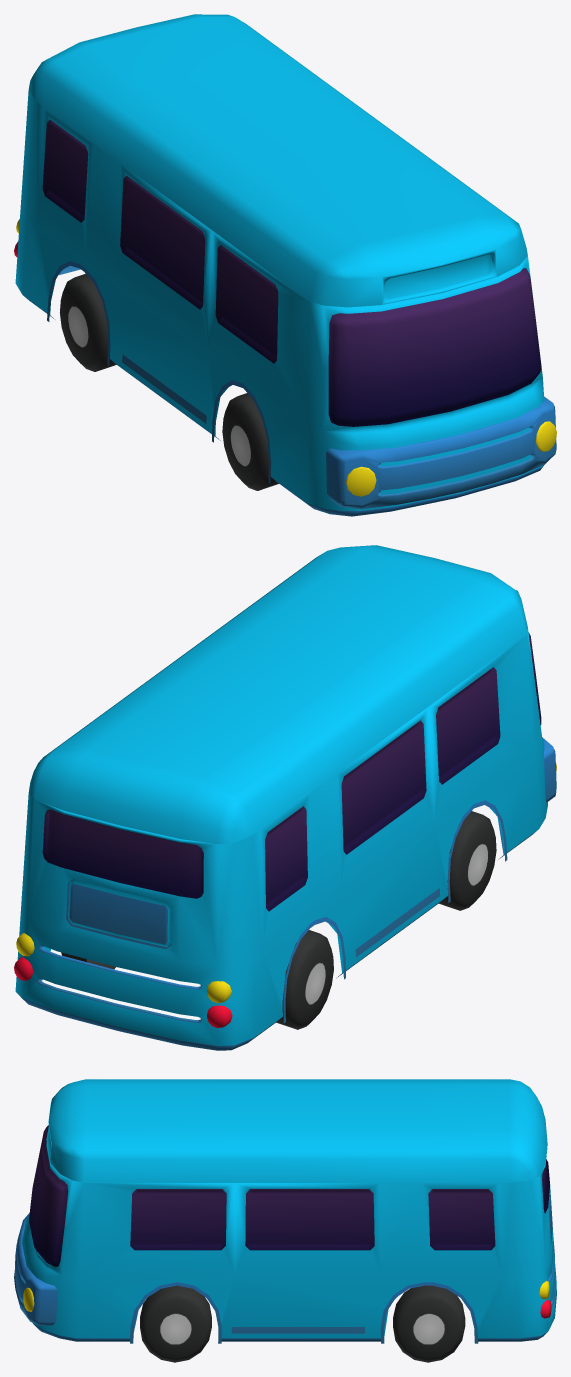
File: SixSeater.fbx
3 renders of one model, top to bottom at view 1: azimuth 30°, elevation 25°; view 2: azimuth 150°, elevation 25°; view 3: azimuth 270°, elevation 25°, orthographic. The views are drawn at different scales.
Visible parts, largest first — view 1: SixSeatee_Body, SixSeater_Removable; view 2: SixSeatee_Body, SixSeater_Removable; view 3: SixSeatee_Body, SixSeater_Removable.
Part boxes in pixels (x1,y1,x2,y2): SixSeatee_Body: (14,90,556,516); SixSeater_Removable: (28,14,527,307); SixSeatee_Body: (14,628,556,1050); SixSeater_Removable: (28,545,527,844); SixSeatee_Body: (14,1125,556,1362); SixSeater_Removable: (46,1079,547,1182).
Size of the model in its own units: 625 by 681 by 1574.
Materials: 1 (1 with a texture image).
